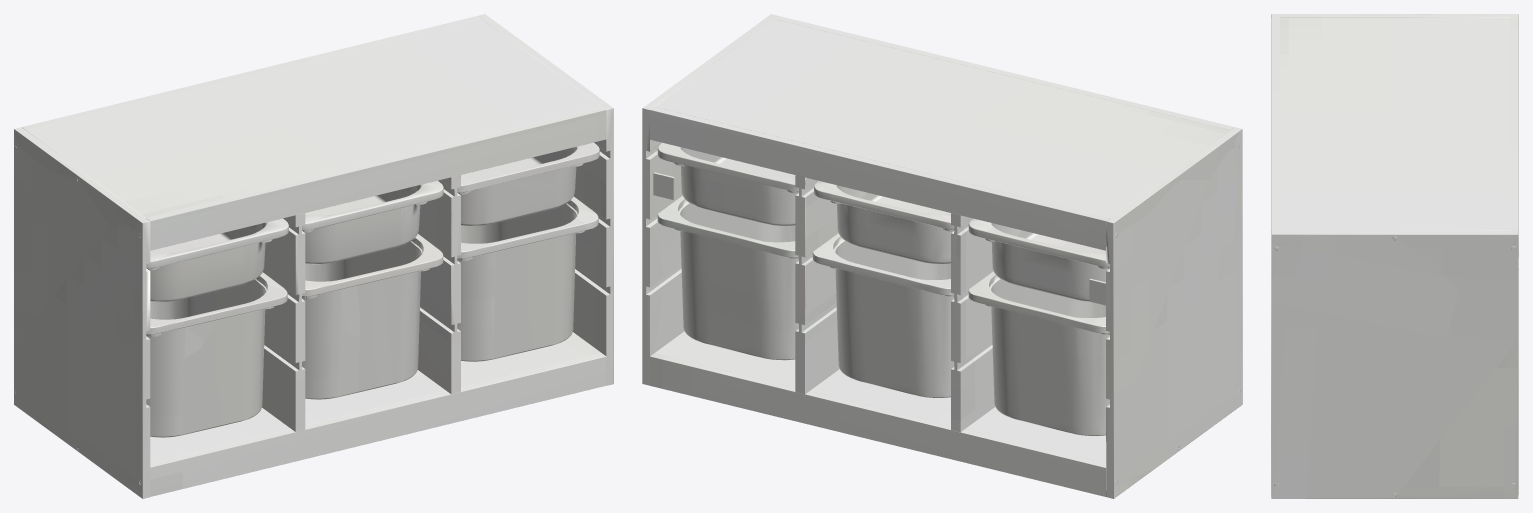
3 renders of one model, left to right at view 1: azimuth 30°, elevation 25°; view 2: azimuth 150°, elevation 25°; view 3: azimuth 270°, elevation 25°, orthographic. The views are drawn at different scales.
Visible parts, largest first — view 1: Mesh_1.001; view 2: Mesh_1.001; view 3: Mesh_1.001.
Part boxes in pixels (x1=…): Mesh_1.001: x1=14, y1=14, x2=613, y2=498; Mesh_1.001: x1=642, y1=14, x2=1242, y2=498; Mesh_1.001: x1=1271, y1=14, x2=1518, y2=498.
Bounding box in the file's own units: 0.93 × 0.5202 × 0.4402.
Materials: 1 (1 with a texture image).
